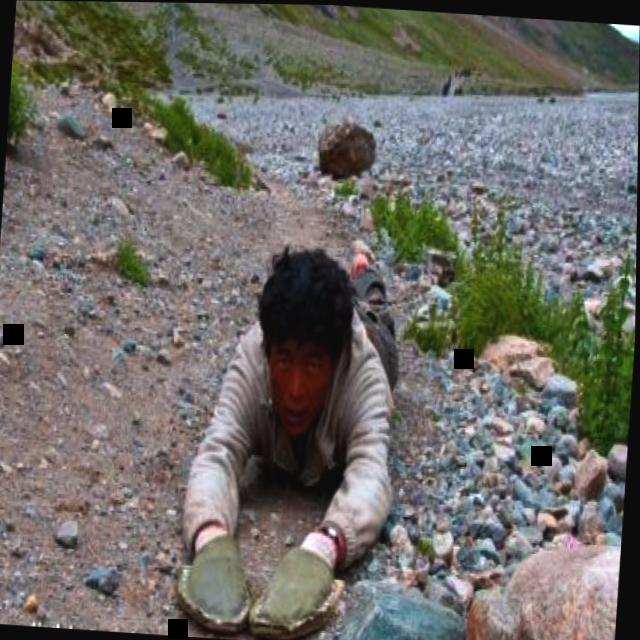Fall-Detected: (159, 213, 438, 640)
